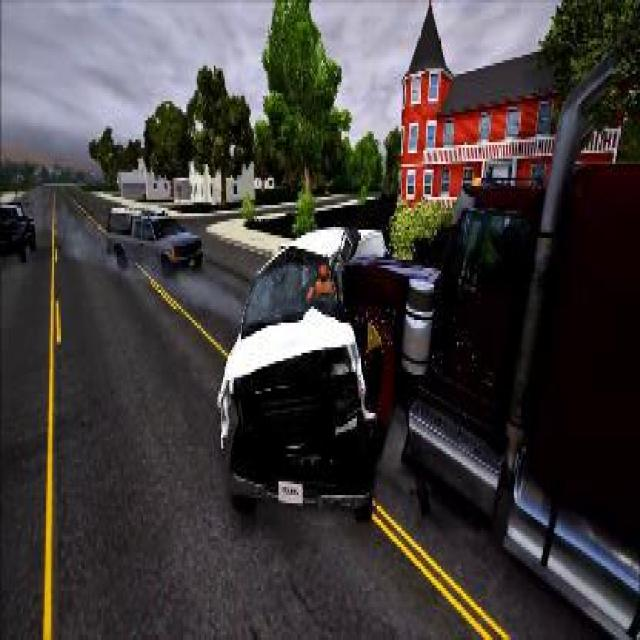accident: (213, 58, 639, 638)
